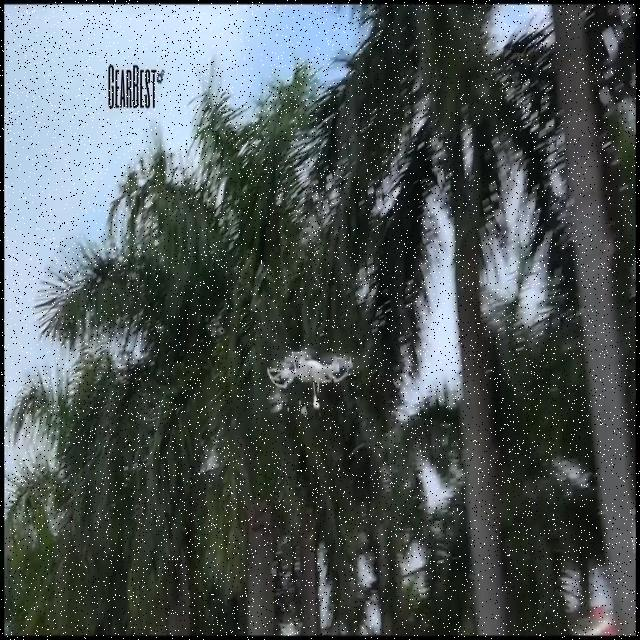UAV: (267, 350, 353, 414)
